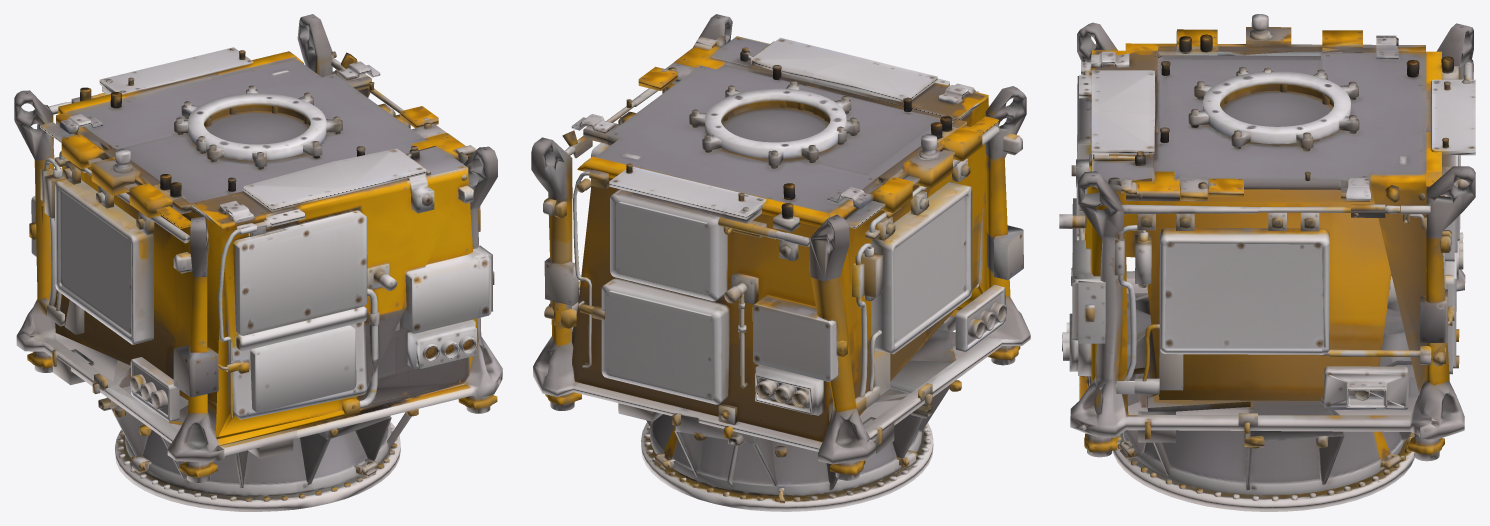
Rendered from sat2_1.fbx.
3 renders of one model, left to right at view 1: azimuth 30°, elevation 25°; view 2: azimuth 150°, elevation 25°; view 3: azimuth 270°, elevation 25°, orthographic. The views are drawn at different scales.
Parts seen in each view (by area): view 1: tripo_node_a05e7e55; view 2: tripo_node_a05e7e55; view 3: tripo_node_a05e7e55.
Part boxes in pixels (x1,y1,x2,y2): tripo_node_a05e7e55: [14, 14, 502, 511]; tripo_node_a05e7e55: [531, 14, 1030, 511]; tripo_node_a05e7e55: [1059, 14, 1475, 511].
Bounding box in the file's own units: 0.979 × 0.9565 × 0.9995.
